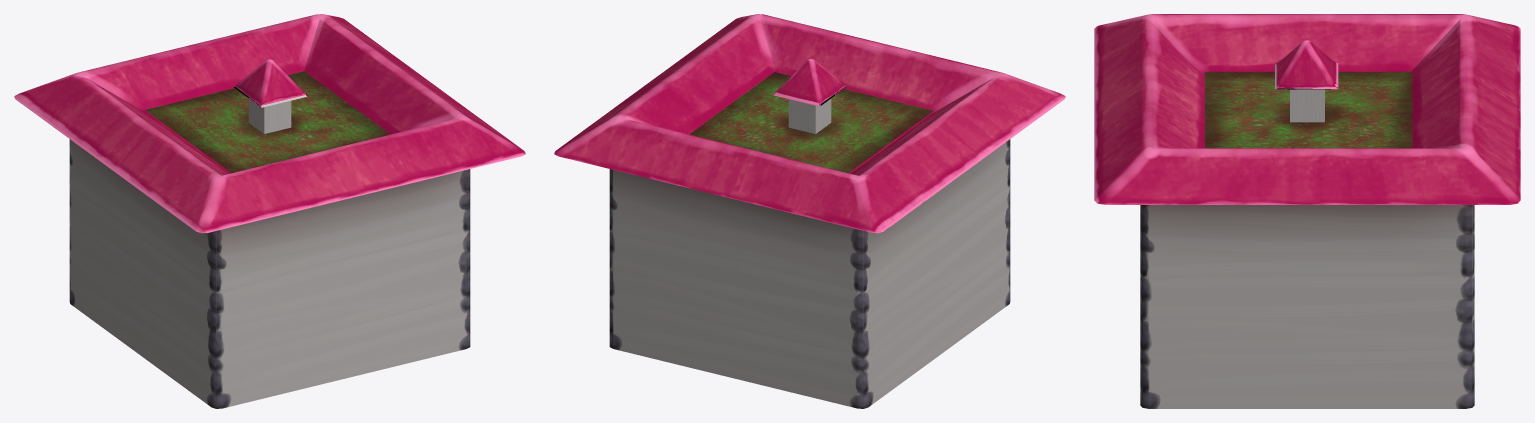
The picture shows the model from 3 angles, left to right: view 1: azimuth 30°, elevation 25°; view 2: azimuth 150°, elevation 25°; view 3: azimuth 270°, elevation 25°; orthographic projection. The views are drawn at different scales.
Visible parts, largest first — view 1: Cube; view 2: Cube; view 3: Cube.
Boxes of the visible parts, left/top/right/bottom form: Cube: left=14, top=14, right=525, bottom=408; Cube: left=554, top=14, right=1065, bottom=408; Cube: left=1094, top=14, right=1520, bottom=408.
Bounding box in the file's own units: 2.55 × 1.96 × 2.55.
1 material, 1 textured.
